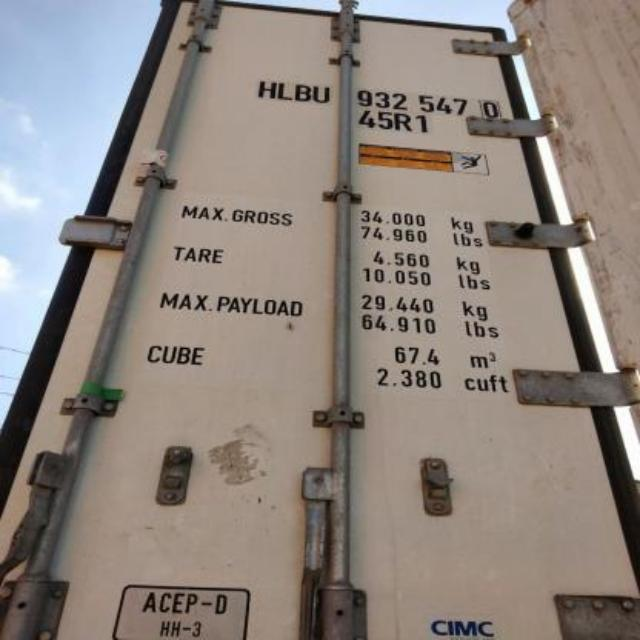0: (479, 95, 509, 121)
2: (392, 88, 408, 112)
3: (376, 88, 388, 109)
4: (437, 93, 453, 117)
5: (415, 90, 435, 114)
7: (452, 90, 470, 120)
9: (356, 84, 374, 108)
B: (293, 79, 311, 109)
H: (259, 79, 275, 103)
L: (278, 79, 292, 103)
U: (313, 78, 331, 108)
